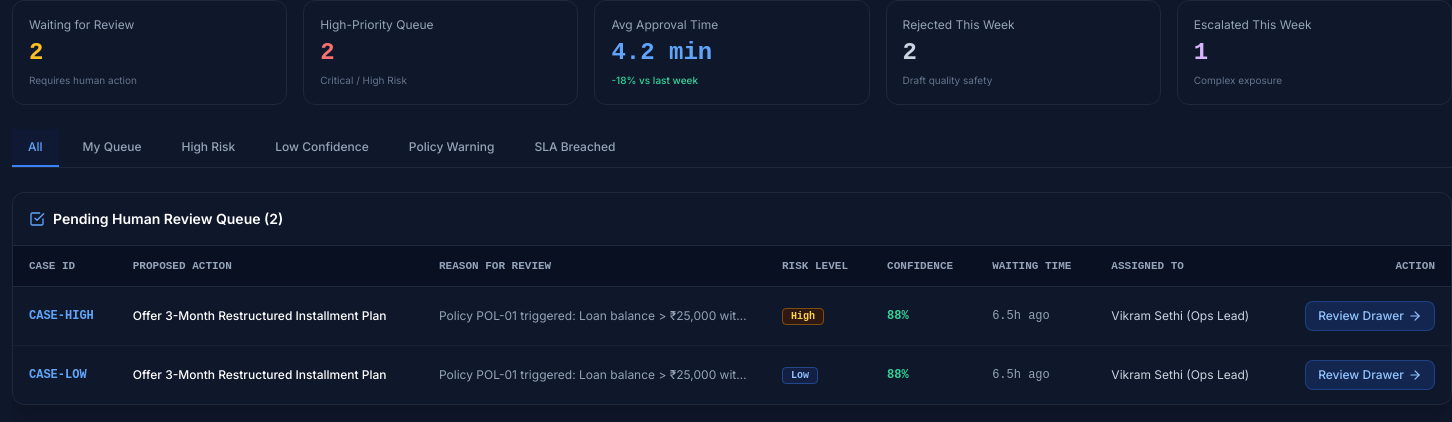
Test: 8. Approval Queue Filtering & Status Transitions › filters queue items by risk tab
// Click "High Risk" tab filter
What coordinates should you click on to do the following:
click the button "High Risk"
I would click on:
 (208, 148)
Its box is [166,129,251,167].
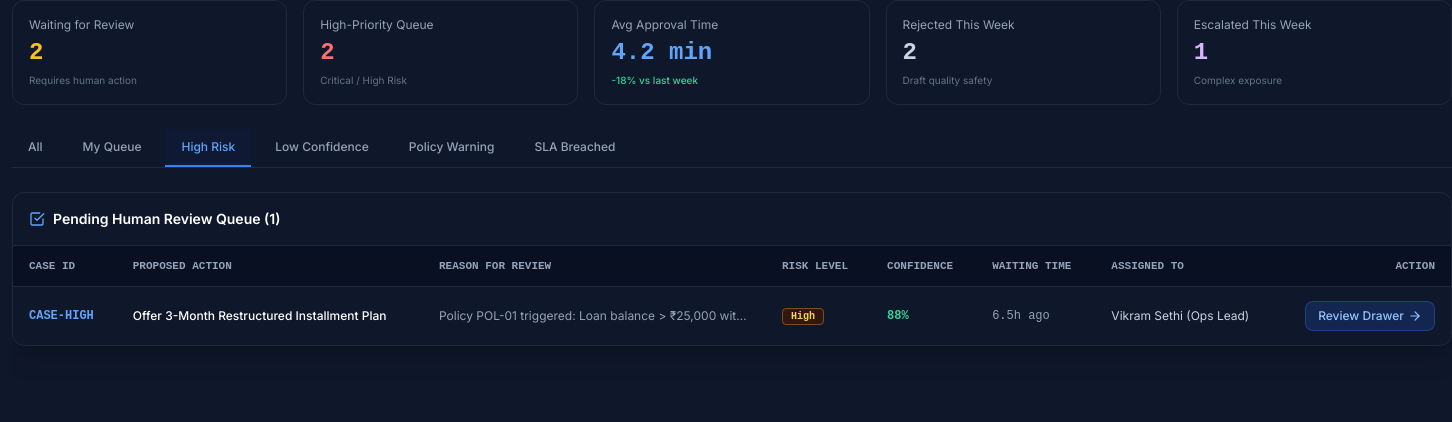
Expected: the text "CASE-HIGH" is shown, [13,286,117,345]
Now the text "CASE-LOW" is gone
